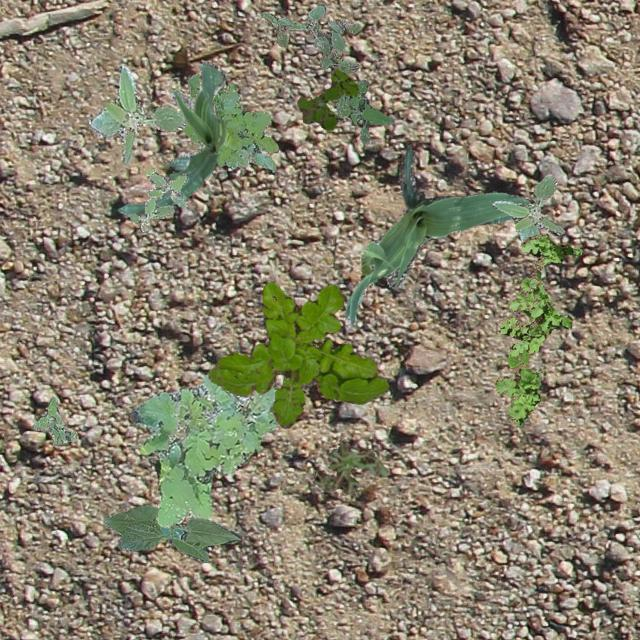crop: (344, 144, 532, 326), (118, 61, 225, 216), (102, 504, 240, 560), (154, 458, 160, 478)
weed: (206, 282, 388, 428), (130, 372, 278, 526), (494, 232, 580, 424), (180, 72, 278, 172), (88, 64, 186, 164), (258, 2, 358, 72), (492, 174, 564, 242), (312, 438, 388, 494), (334, 78, 392, 144), (296, 68, 358, 128), (128, 168, 186, 230), (30, 396, 76, 444)
